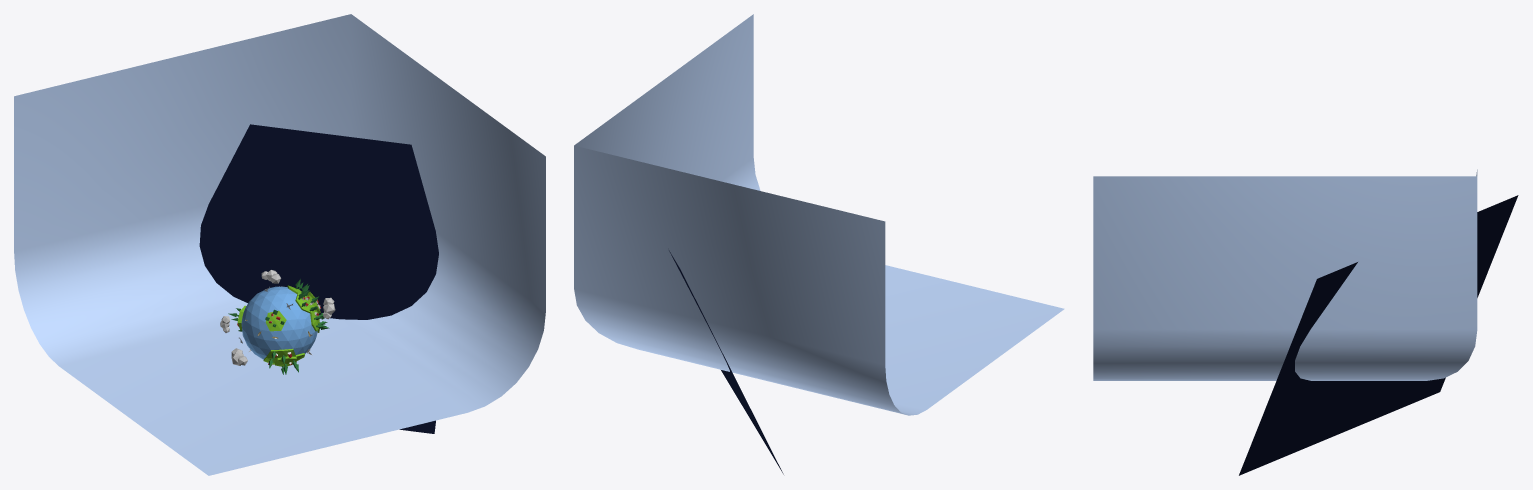
The model's file is earth.gltf.
The picture shows the model from 3 angles, left to right: view 1: azimuth 30°, elevation 25°; view 2: azimuth 150°, elevation 25°; view 3: azimuth 270°, elevation 25°; orthographic projection. The views are drawn at different scales.
Visible parts, largest first — view 1: Plane.090, Plane.002, Icosphere.001, Icosphere, Icosphere.005; view 2: Plane.090, Plane.002; view 3: Plane.090, Plane.002.
Part boxes in pixels (x1,y1,x2,y2): Plane.090: [14, 14, 545, 475]; Plane.002: [199, 124, 438, 433]; Icosphere.001: [241, 286, 317, 359]; Icosphere: [237, 285, 320, 366]; Icosphere.005: [220, 270, 335, 365]; Plane.090: [574, 14, 1064, 415]; Plane.002: [669, 250, 783, 474]; Plane.090: [1093, 169, 1477, 380]; Plane.002: [1239, 195, 1518, 475].
Size of the model in its own units: 11.58 by 9.58 by 11.61.
